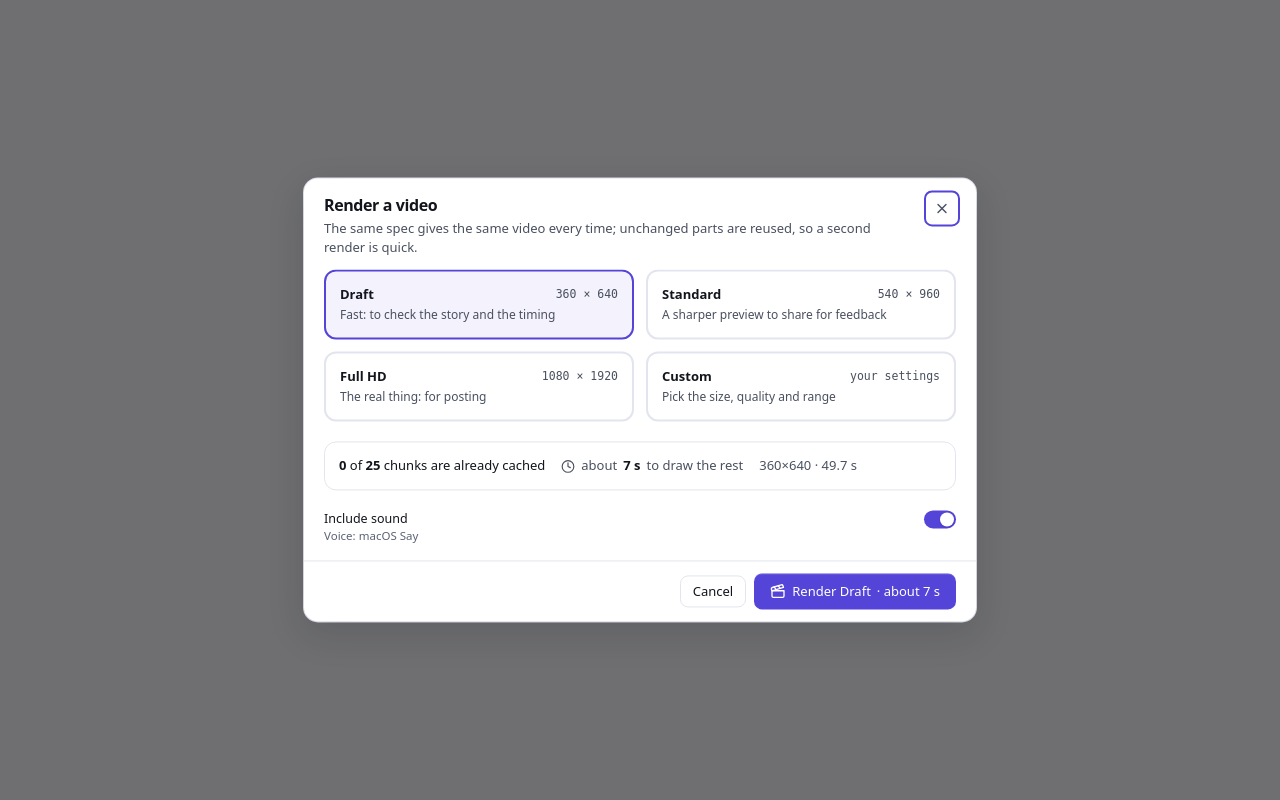
the export dialog › blocks a full render while the spec has errors, but a draft always goes ahead
Click the radio button labelled "Full HD 1080 × 1920 The real thing: for posting": (479, 387) [324,352,634,422]
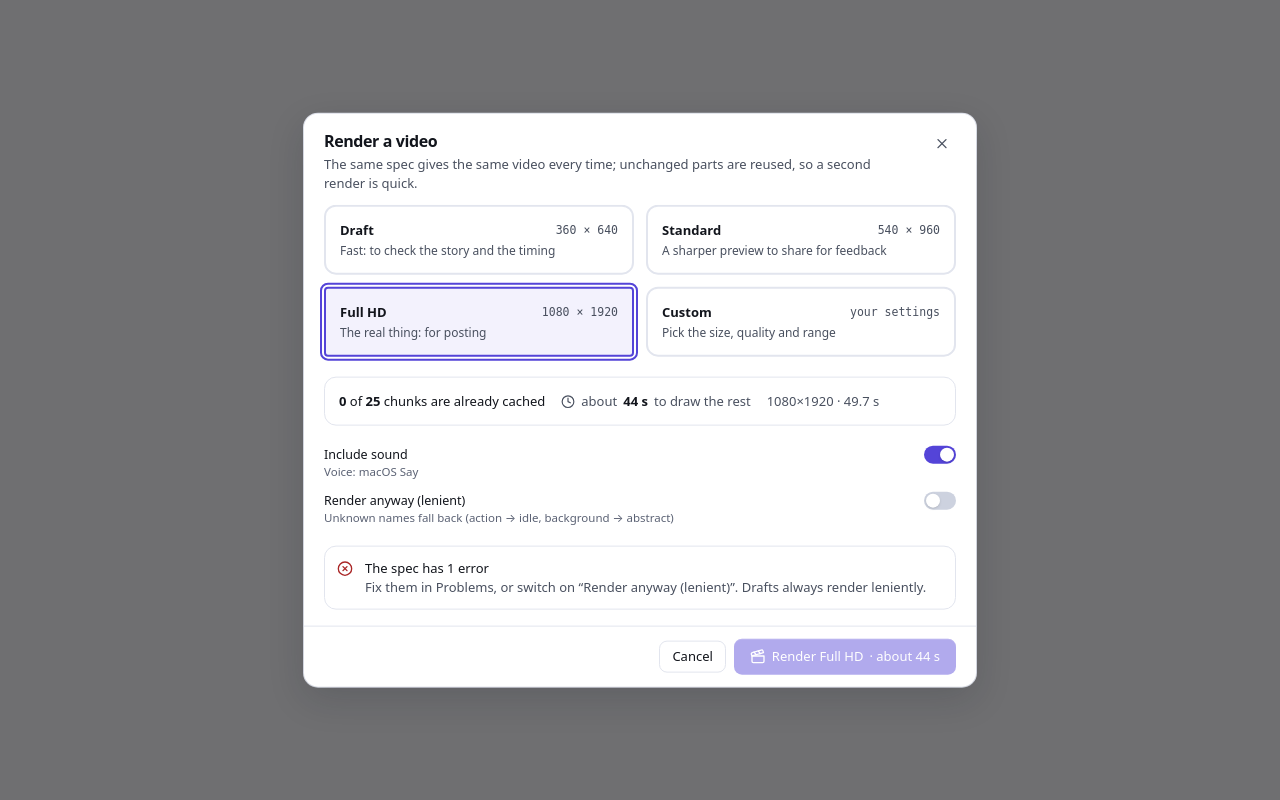
Now the text "The spec has 1 error" is shown, box [365,559,489,577]
Now the button "Render Full HD · about 44 s" is disabled, box [734,638,956,674]
Click the radio button labelled "Draft 360 × 640 Fast: to check the story and the timing": (479, 240) [324,204,634,275]
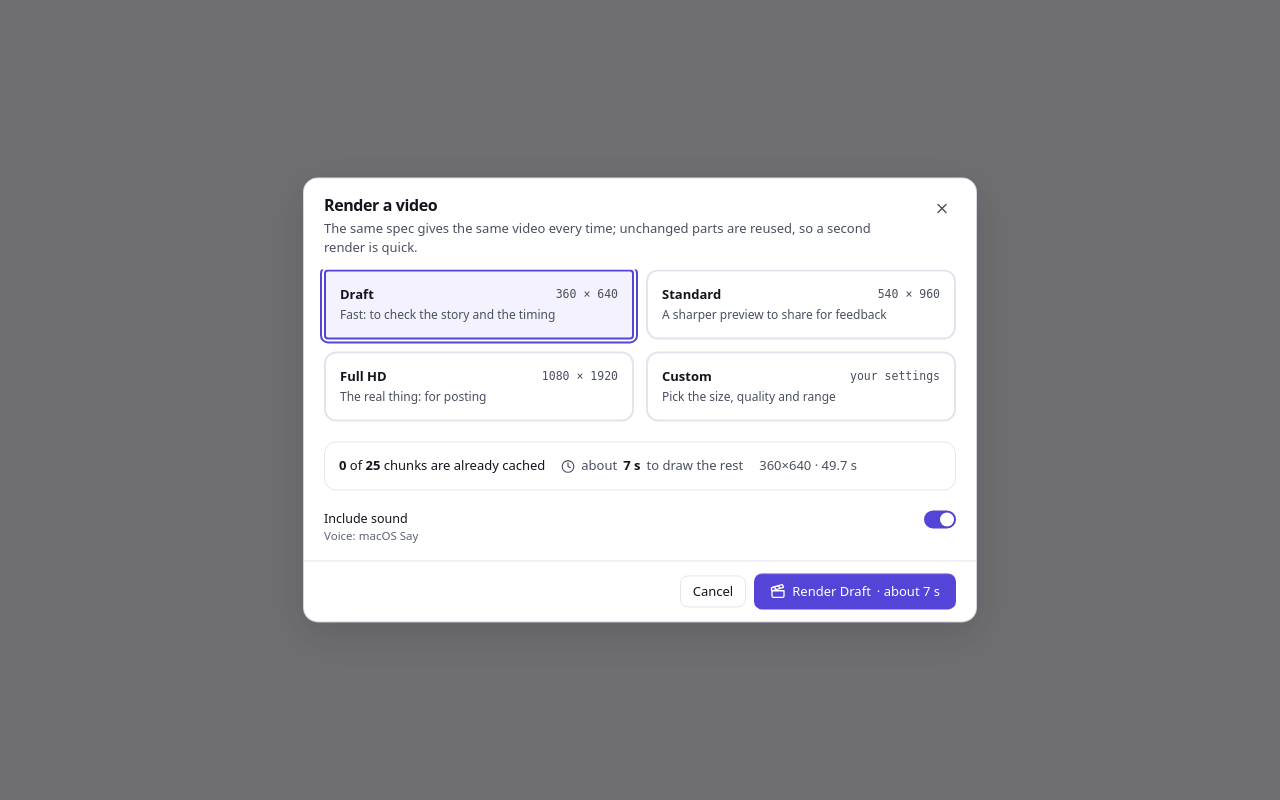
Now the button "Render Draft · about 7 s" is enabled, box [754,574,956,610]
